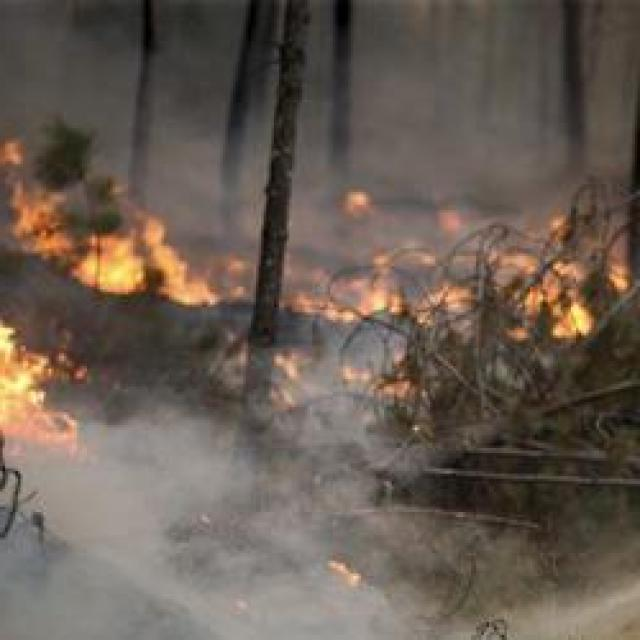fire: (1, 320, 52, 446)
smoke: (0, 553, 141, 640), (182, 569, 351, 640), (93, 420, 207, 508)
